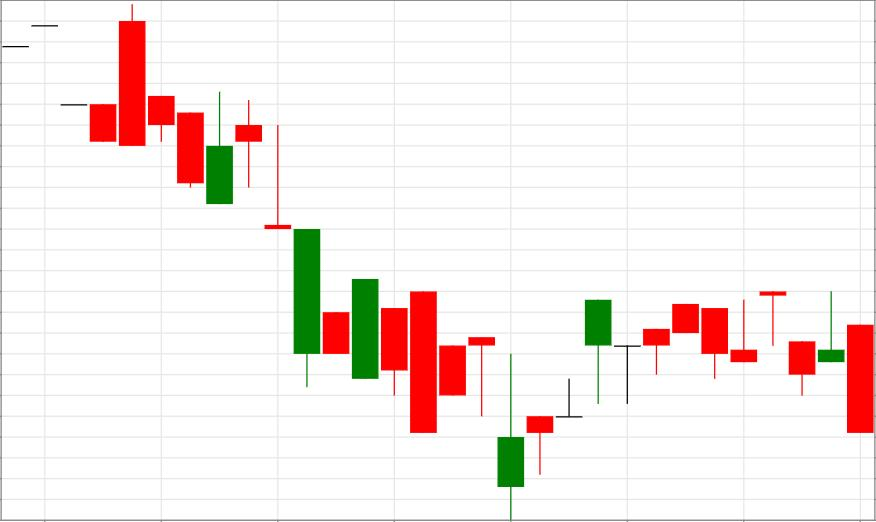hanging_man_fall: (498, 300, 611, 521)
